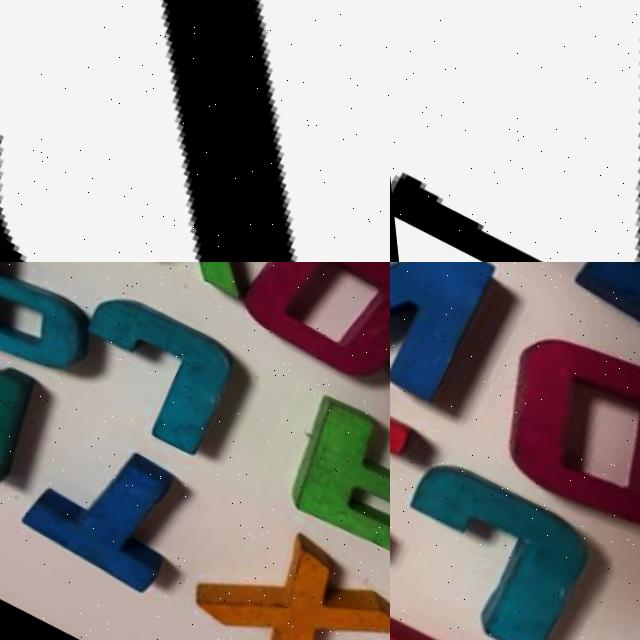7: (390, 0, 640, 262)
F: (252, 387, 390, 599)
J: (390, 448, 607, 640), (48, 287, 243, 471)
M: (0, 302, 50, 508)
N: (390, 262, 511, 430)
O: (459, 312, 640, 573), (217, 262, 390, 414)
P: (0, 262, 118, 404)
T: (0, 414, 209, 615)
X: (159, 501, 390, 640)
Y: (94, 262, 294, 312)
Z: (0, 0, 390, 262)
